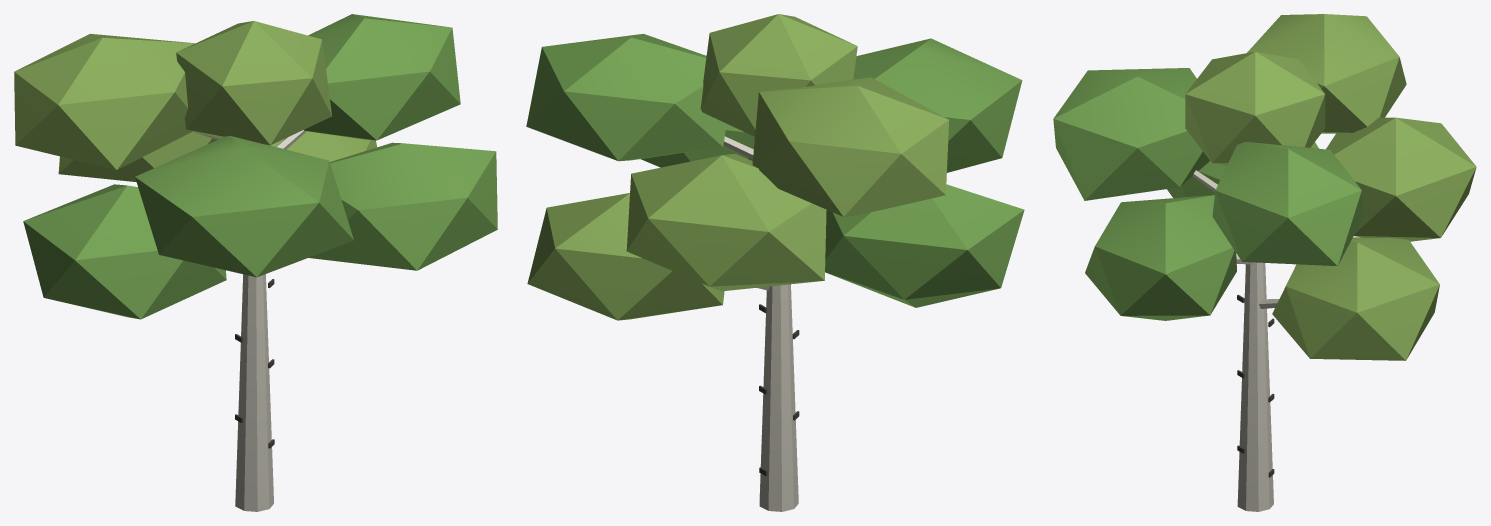
Rendered from tree_birch_b.glb.
3 renders of one model, left to right at view 1: azimuth 30°, elevation 25°; view 2: azimuth 150°, elevation 25°; view 3: azimuth 270°, elevation 25°, orthographic. The views are drawn at different scales.
Parts seen in each view (by area): view 1: tree_birch_b; view 2: tree_birch_b; view 3: tree_birch_b.
Part boxes in pixels (x1,y1,x2,y2): tree_birch_b: (14,14,497,511); tree_birch_b: (526,14,1024,511); tree_birch_b: (1053,14,1476,511).
Size of the model in its own units: 6.24 by 6.68 by 5.66.
